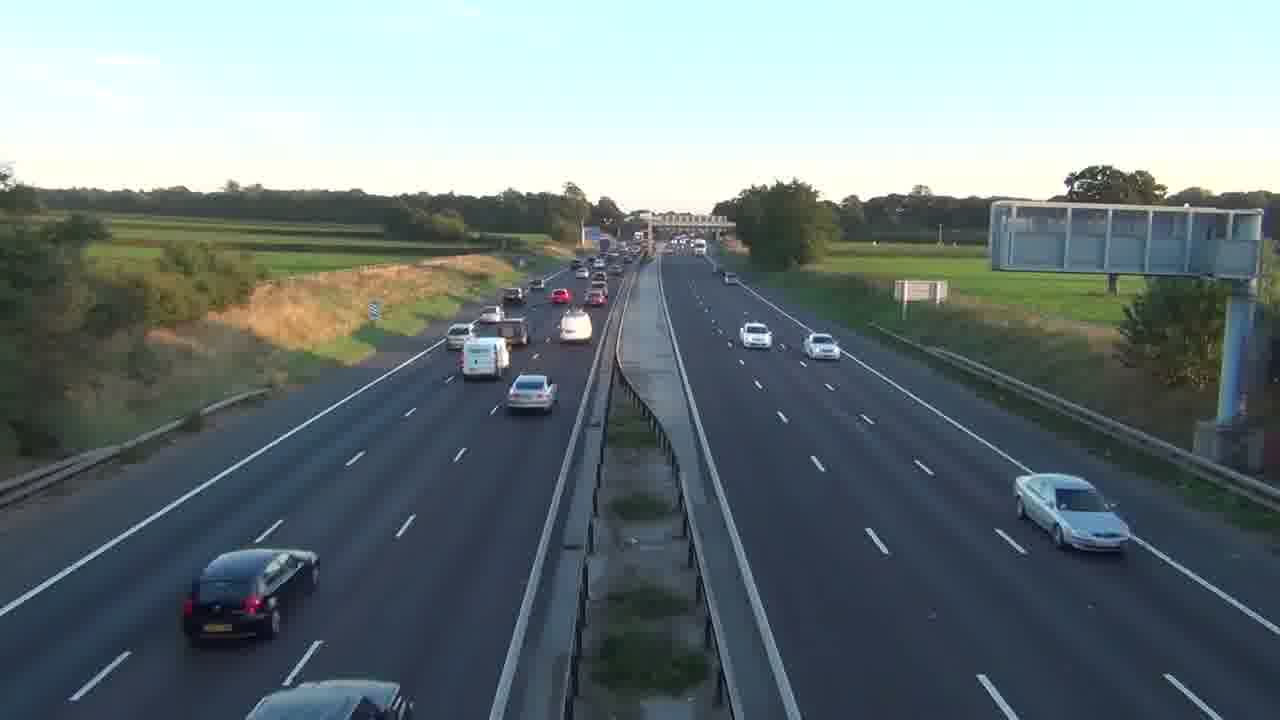car: (181, 546, 321, 647), (1013, 471, 1132, 553), (244, 676, 415, 719), (506, 372, 560, 415), (801, 332, 841, 361), (739, 321, 773, 351)
truck: (1013, 471, 1132, 553)
